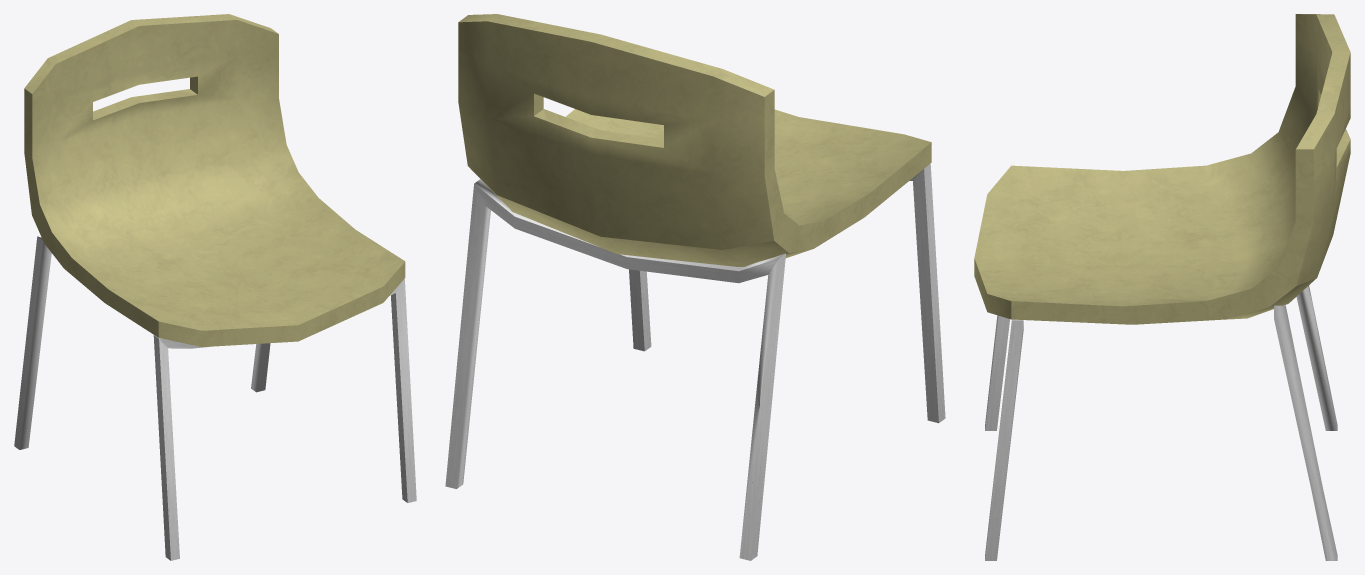
Rendered from LGSeochoB1ConvenienceStoreChair.fbx.
3 views of the same model, side by side, from view 1: azimuth 30°, elevation 25°; view 2: azimuth 150°, elevation 25°; view 3: azimuth 270°, elevation 25° (orthographic). The views are drawn at different scales.
Parts seen in each view (by area): view 1: LGSeochoB1ConvenienceStorePlastic, LGSeochoB1Metal; view 2: LGSeochoB1ConvenienceStorePlastic, LGSeochoB1Metal; view 3: LGSeochoB1ConvenienceStorePlastic, LGSeochoB1Metal.
Part boxes in pixels (bbox=[...]): LGSeochoB1ConvenienceStorePlastic: bbox=[24, 14, 405, 346]; LGSeochoB1Metal: bbox=[14, 236, 416, 560]; LGSeochoB1ConvenienceStorePlastic: bbox=[458, 14, 931, 266]; LGSeochoB1Metal: bbox=[445, 164, 945, 560]; LGSeochoB1ConvenienceStorePlastic: bbox=[974, 14, 1350, 324]; LGSeochoB1Metal: bbox=[985, 285, 1337, 560].
Size of the model in its own units: 53.41 by 81.12 by 62.69.
Materials: 2 (2 with a texture image).
